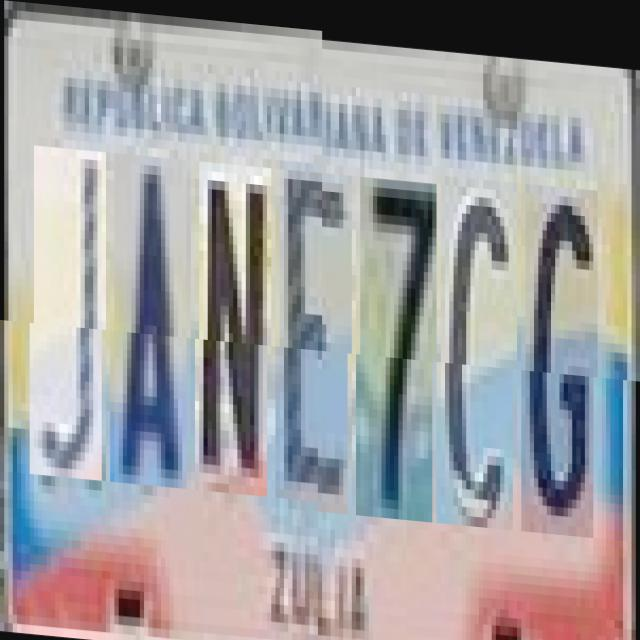7: (360, 169, 437, 513)
A: (114, 160, 191, 494)
C: (440, 167, 518, 519)
E: (280, 164, 352, 506)
G: (526, 173, 598, 525)
J: (34, 154, 106, 488)
N: (199, 167, 271, 500)
